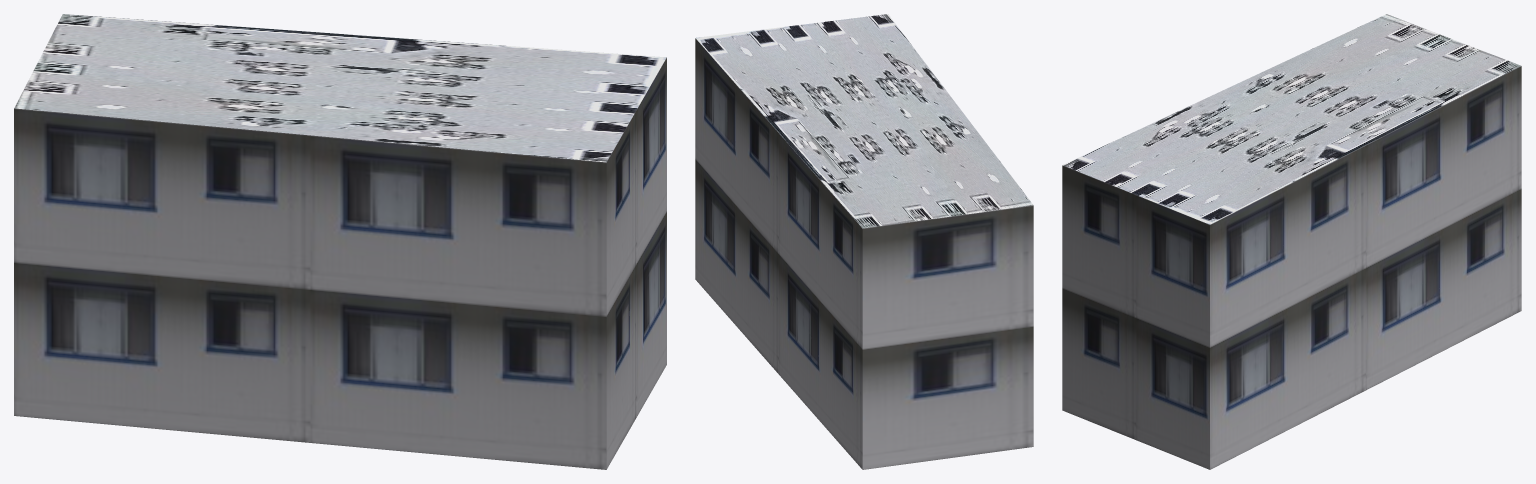
Rendered from ResTex__1831.fbx.
3 views of the same model, side by side, from view 1: azimuth 30°, elevation 25°; view 2: azimuth 150°, elevation 25°; view 3: azimuth 270°, elevation 25° (orthographic). The views are drawn at different scales.
Visible parts, largest first — view 1: CityEngineMaterial_9_m, CityEngineMaterial_8_m; view 2: CityEngineMaterial_9_m, CityEngineMaterial_8_m; view 3: CityEngineMaterial_9_m, CityEngineMaterial_8_m.
Boxes of the visible parts, x1,y1,x2,y2 form: CityEngineMaterial_9_m: (14,57,666,469); CityEngineMaterial_8_m: (14,14,666,162); CityEngineMaterial_9_m: (695,38,1033,469); CityEngineMaterial_8_m: (695,14,1033,228); CityEngineMaterial_9_m: (1062,66,1521,469); CityEngineMaterial_8_m: (1062,14,1521,224).
Bounding box in the file's own units: 11.06 × 6 × 10.19.
2 materials, 2 textured.
